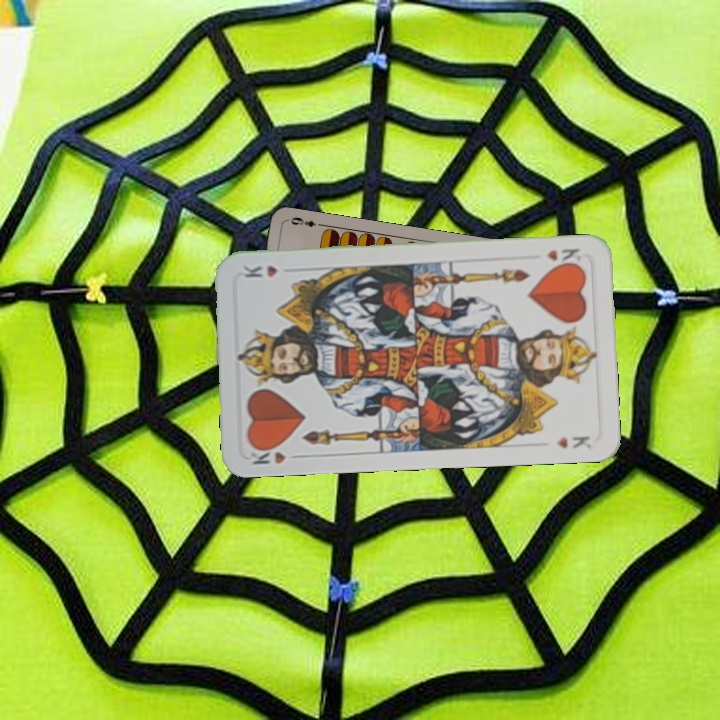HK: (245, 441, 305, 467), (542, 244, 584, 269)
